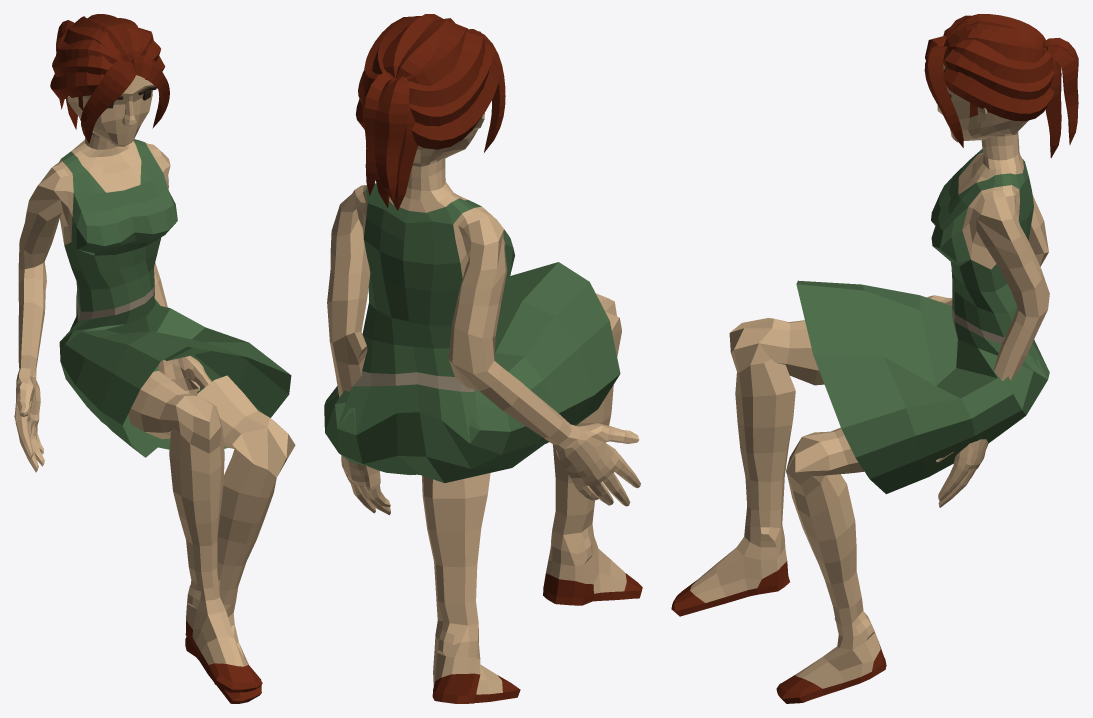
File: woman-formal.glb
3 renders of one model, left to right at view 1: azimuth 30°, elevation 25°; view 2: azimuth 150°, elevation 25°; view 3: azimuth 270°, elevation 25°, orthographic. The views are drawn at different scales.
Parts seen in each view (by area): view 1: woman-formal; view 2: woman-formal; view 3: woman-formal.
Boxes of the visible parts, x1,y1,x2,y2 form: woman-formal: (14, 14, 295, 703); woman-formal: (324, 14, 642, 703); woman-formal: (671, 14, 1078, 703).
Bounding box in the file's own units: 0.6082 × 1.46 × 0.8205.
